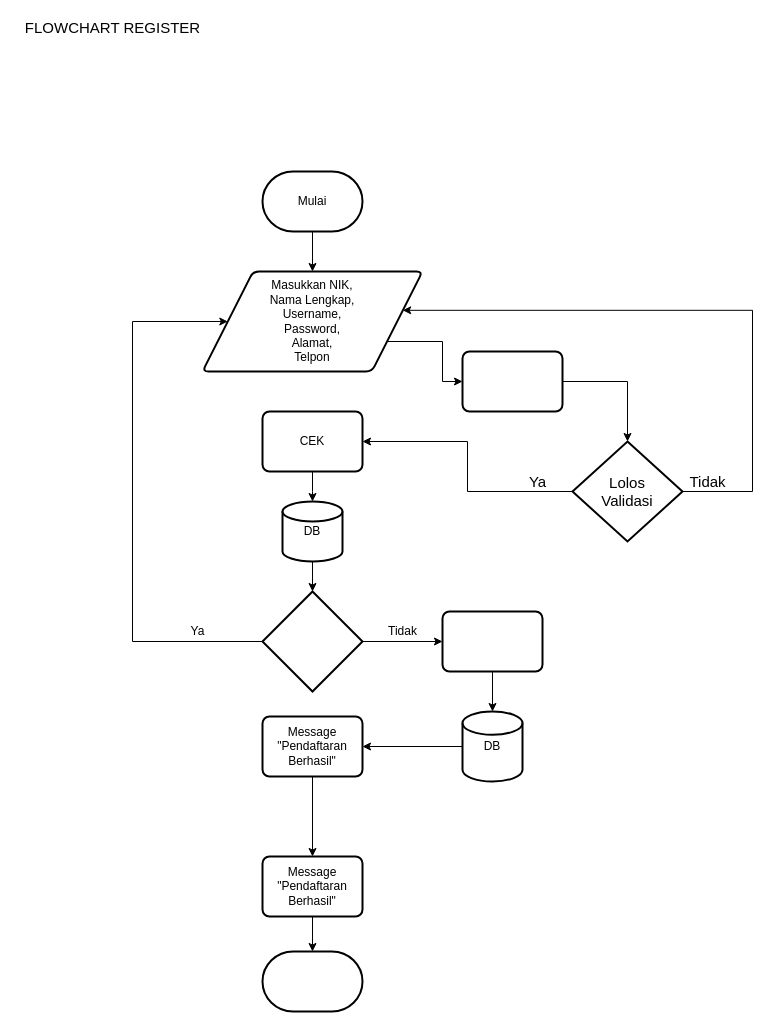
The diagram is 778 pixels wide and 1029 high, and some of its shapes have lost their labels. Here are the shapes that lost their labels. From the top down, the centre of each, then its label:
At point 512,381: "Validasi Forrm".
At point 312,641: "NIK sudah ada ?".
At point 492,641: "Simpan".
At point 312,981: "End".
